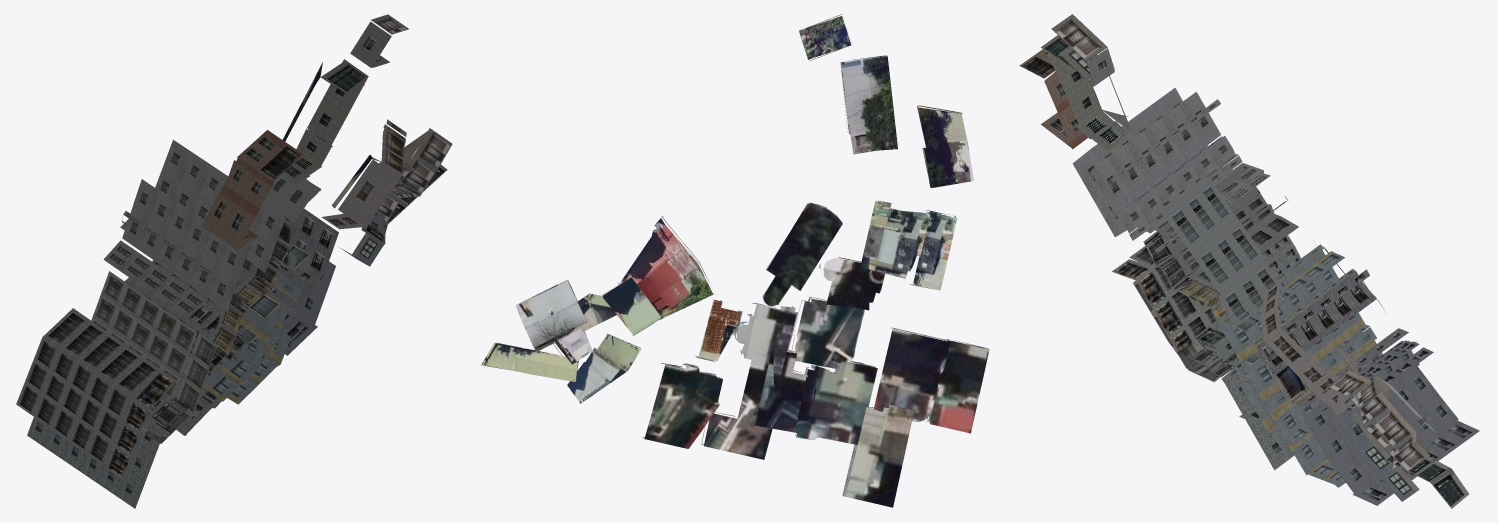
The model's file is tile_LOD4_r8_c12.glb.
The picture shows the model from 3 angles, left to right: view 1: azimuth 30°, elevation 25°; view 2: azimuth 150°, elevation 25°; view 3: azimuth 270°, elevation 25°; orthographic projection. The views are drawn at different scales.
Size of the model in its own units: 85.25 by 80.5 by 65.5.
Materials: 76 (76 with a texture image).
